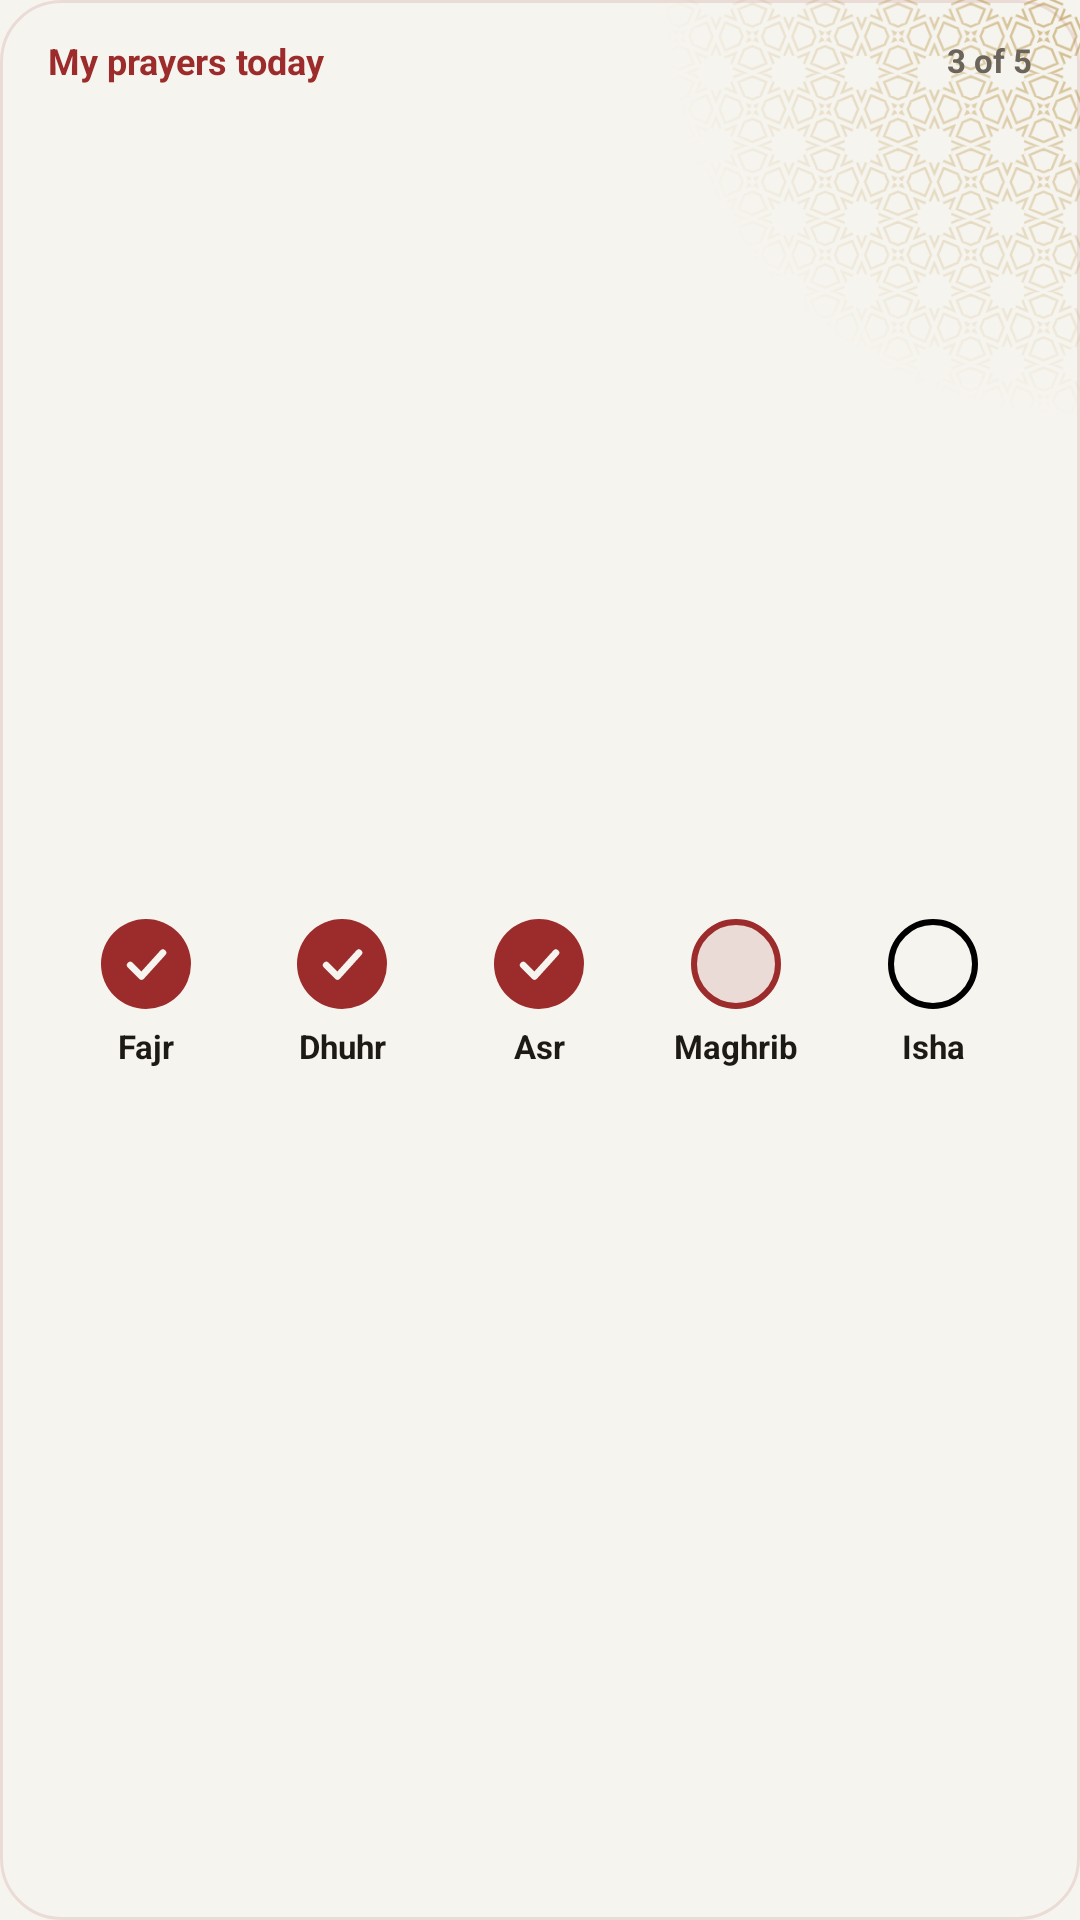

Icons on this 1080px×1920px Android screen, each with the point to tap as (x,y):
widget orn band: (920,159)
